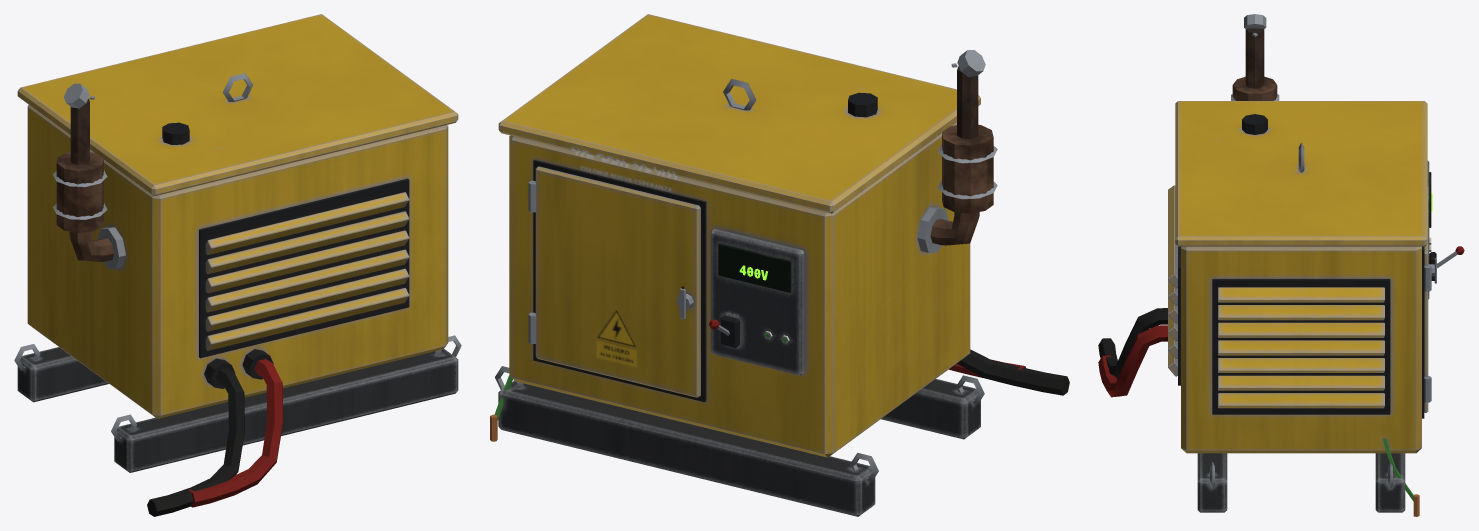
File: generador_electrico.fbx
3 views of the same model, side by side, from view 1: azimuth 30°, elevation 25°; view 2: azimuth 150°, elevation 25°; view 3: azimuth 270°, elevation 25° (orthographic). The views are drawn at different scales.
Parts seen in each view (by area): view 1: generador_electrico; view 2: generador_electrico; view 3: generador_electrico.
Boxes of the visible parts, bbox=[...] form: generador_electrico: bbox=[14, 14, 461, 516]; generador_electrico: bbox=[490, 14, 1069, 516]; generador_electrico: bbox=[1098, 14, 1464, 516].
Size of the model in its own units: 2.19 by 2.06 by 1.97.
Materials: 2 (1 with a texture image).
